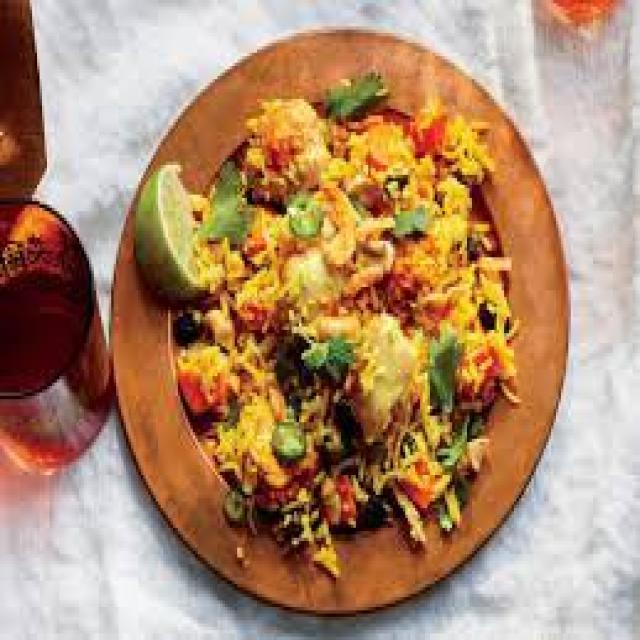chicken biryani: (180, 116, 500, 538)
